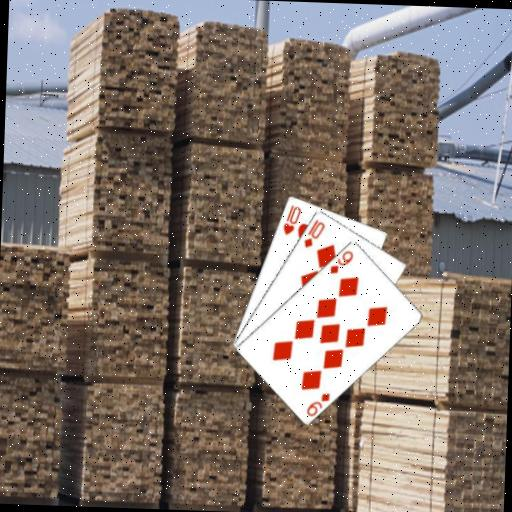10D: (300, 215, 326, 249)
10H: (279, 200, 302, 236)
9D: (327, 246, 355, 275), (303, 388, 331, 417)
